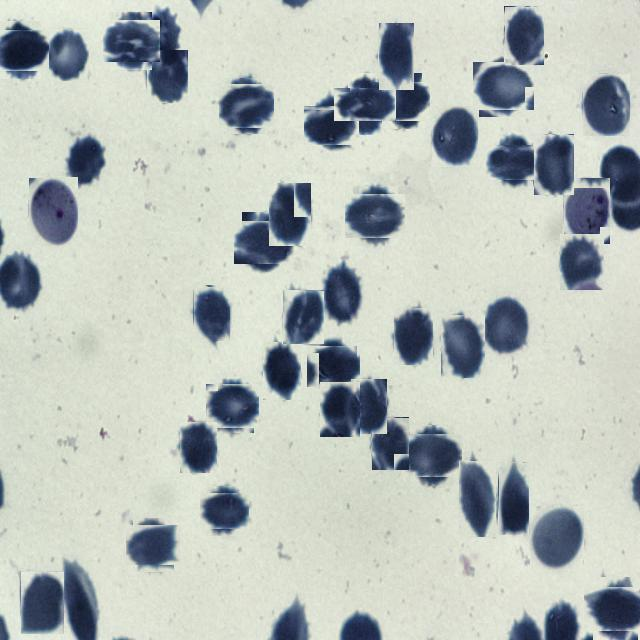red blood cell: (530, 506, 584, 570), (476, 58, 530, 114), (582, 73, 630, 136), (458, 460, 496, 537), (483, 296, 531, 355), (588, 581, 640, 635), (432, 106, 478, 167), (20, 571, 64, 634), (441, 315, 485, 378), (406, 429, 458, 482), (349, 190, 402, 242), (268, 182, 311, 246), (238, 216, 290, 268), (533, 134, 574, 195), (221, 81, 271, 131), (106, 16, 156, 66), (560, 234, 604, 290), (378, 22, 414, 90), (44, 28, 89, 81), (143, 7, 182, 68), (504, 6, 544, 65), (208, 382, 256, 431), (322, 266, 362, 324), (308, 102, 356, 150), (130, 521, 178, 569), (378, 77, 426, 125), (341, 80, 389, 128), (282, 290, 324, 344), (498, 462, 529, 535), (310, 343, 357, 391), (0, 25, 45, 75), (394, 308, 433, 365), (263, 342, 301, 400), (320, 382, 360, 437), (147, 50, 188, 103), (491, 139, 537, 185), (193, 286, 230, 342), (66, 134, 106, 185), (371, 417, 409, 470), (351, 379, 387, 434), (180, 422, 217, 473), (202, 490, 245, 532)
ring: (28, 177, 78, 246), (563, 177, 610, 244)
